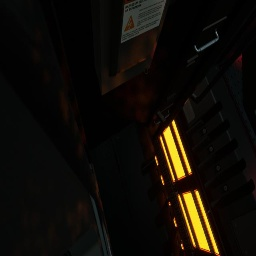SafetySwitchPanel ,: (90, 0, 177, 96)
